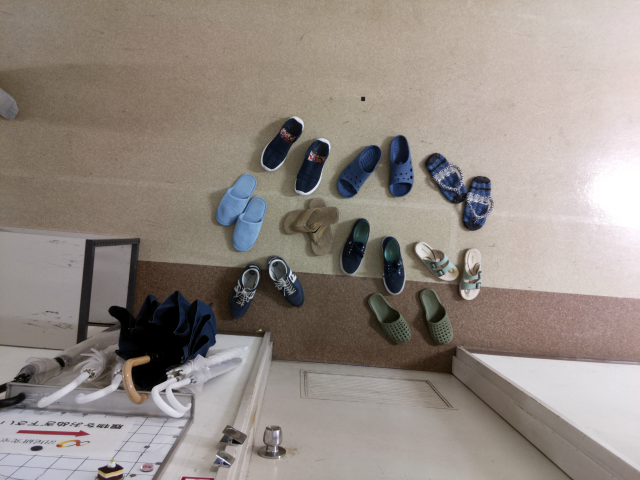Copy of Copy of Copy of Copy of Copy of Copy of Copy of Copy of Copy of Copy of: (405, 281, 453, 352), (405, 231, 460, 290), (365, 285, 412, 352), (371, 232, 415, 298), (334, 213, 376, 278), (332, 211, 374, 276), (275, 204, 339, 242), (451, 241, 486, 307), (304, 193, 338, 259)
Copy of Copy of Copy of Copy of Copy of Copy of Copy of Copy of Copy of shoe: (260, 251, 314, 314)
Copy of Copy of Copy of Copy of Copy of Copy of Copy of Copy of shoe: (219, 258, 265, 325)
Copy of Copy of Copy of Copy of Copy of Copy of Copy of shoe: (224, 193, 269, 257)
Copy of Copy of Copy of Copy of Copy of Copy of shoe: (211, 168, 262, 233)
Copy of Copy of Copy of Copy of Copy of shoe: (255, 113, 309, 173)
Copy of Copy of Copy of Copy of shoe: (290, 135, 335, 195)
Copy of Copy of Copy of shoe: (330, 139, 389, 204)
Copy of Copy of shoe: (379, 132, 421, 201)
Copy of shoe: (422, 149, 466, 209)
shoe: (454, 174, 499, 234)
